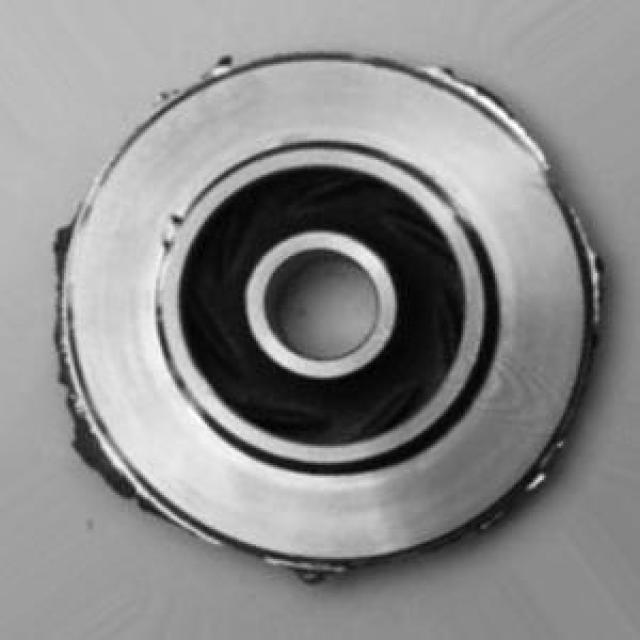Defect: (64, 394, 124, 509), (582, 238, 617, 328)
